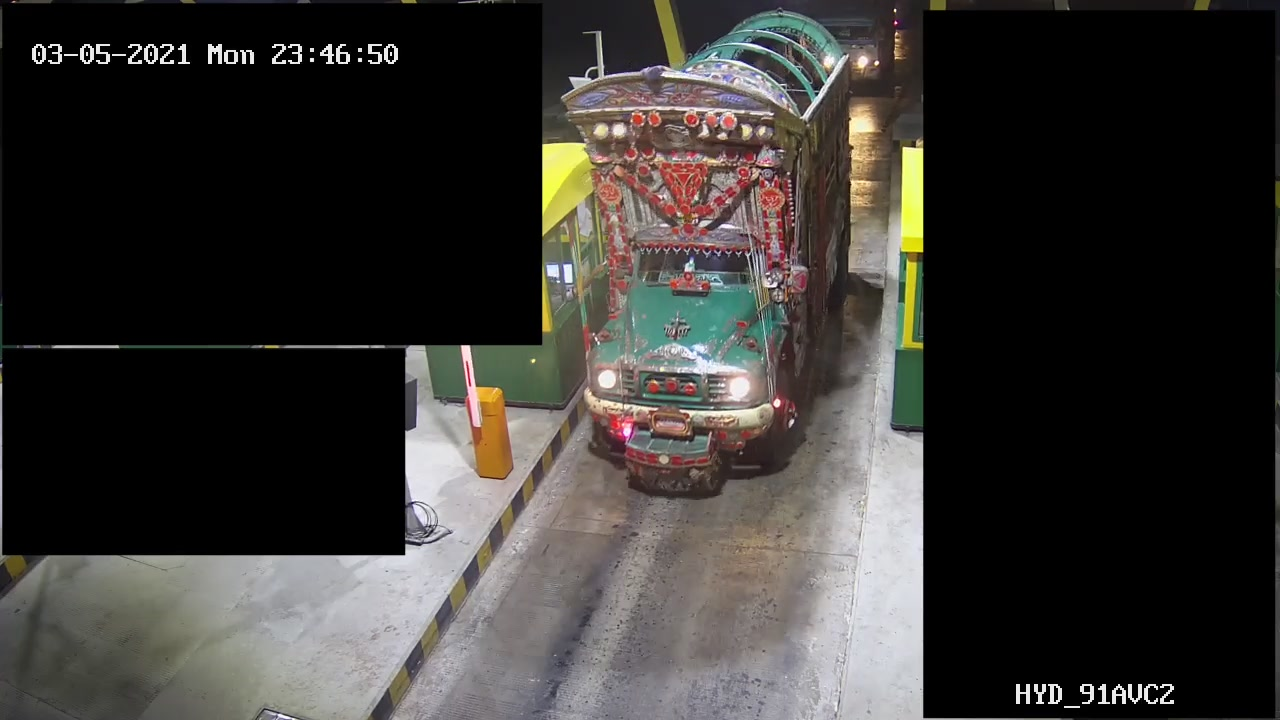F5: (562, 12, 851, 506)
